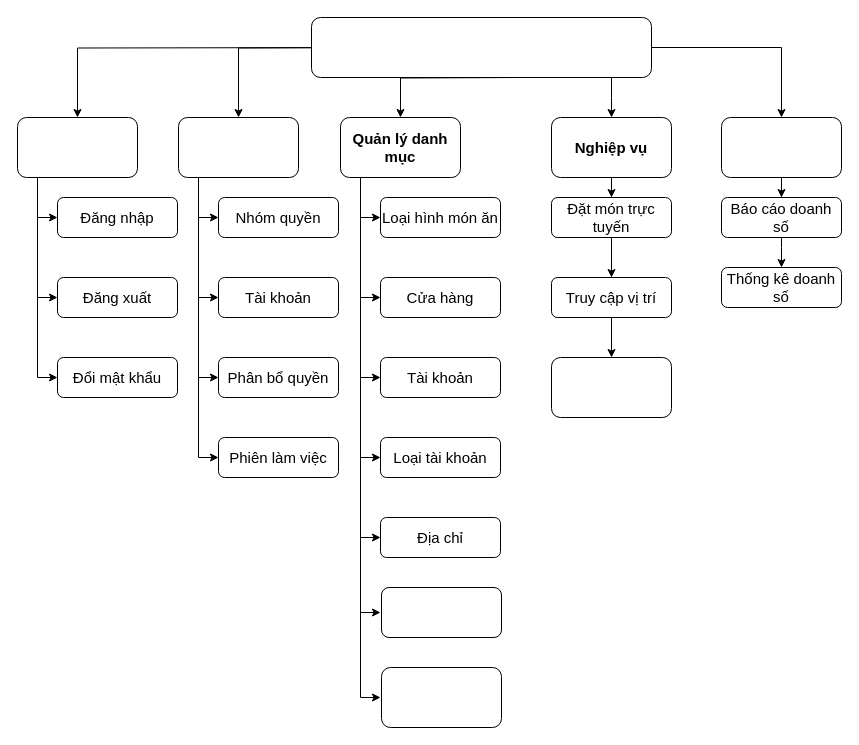
The diagram is 859 pixels wide and 745 high, and some of its shapes have lost their labels. Here are the shapes that lost their labels. From the top down, the centre of each, then its label:
At (481,47): "Hệ thống đặt đồ ăn trực tuyến Eatting Now".
At (77,147): "Người dùng".
At (238,147): "Nhóm quyền và phân quyền".
At (781,147): "Báo cáo & thống kê".
At (611,387): "Lọc lại những cửa hàng gần nhất".
At (441,612): "Người dùng".
At (441,697): "Shipper".
